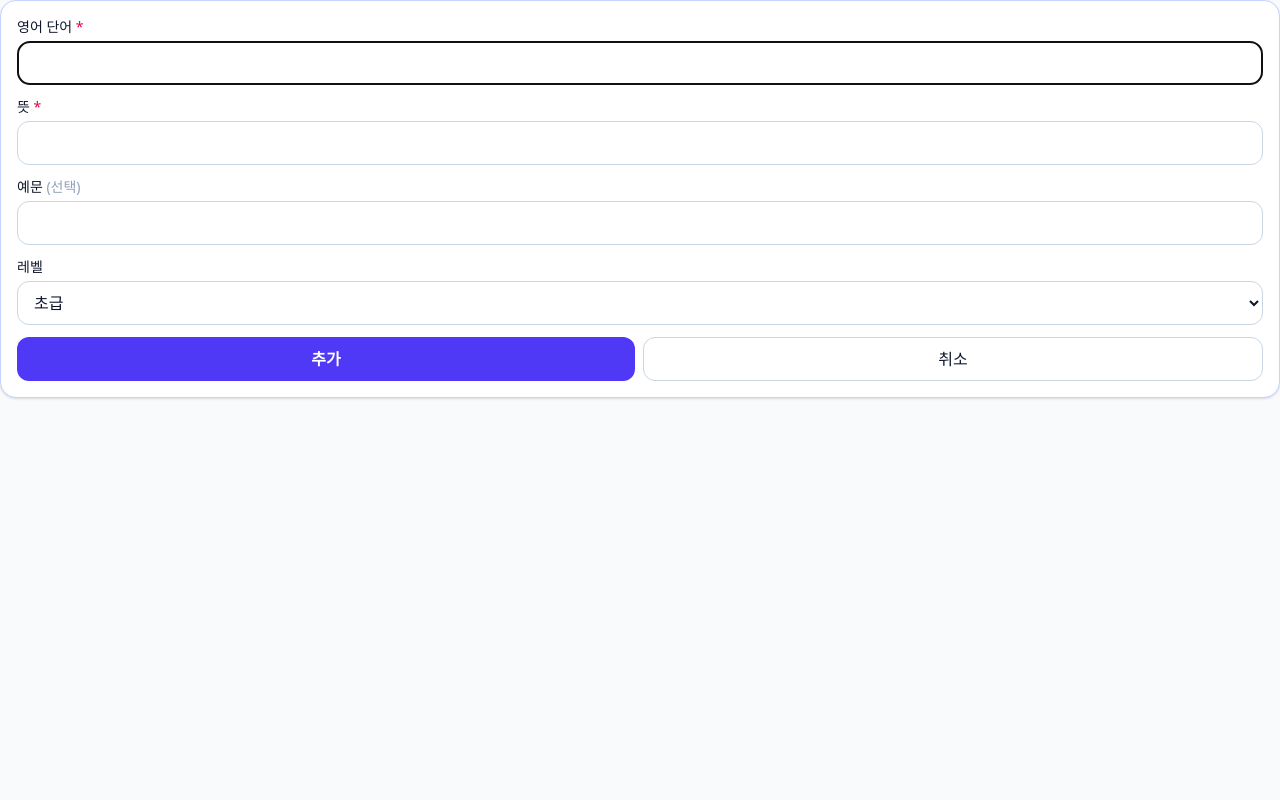
WordForm: 중복 경고 › 영어 단어를 고치면 경고가 사라진다
Type "borrow" into the field labelled "영어 단어 *".
click(640, 63); type("borrow")  # box [17,41,1263,85]
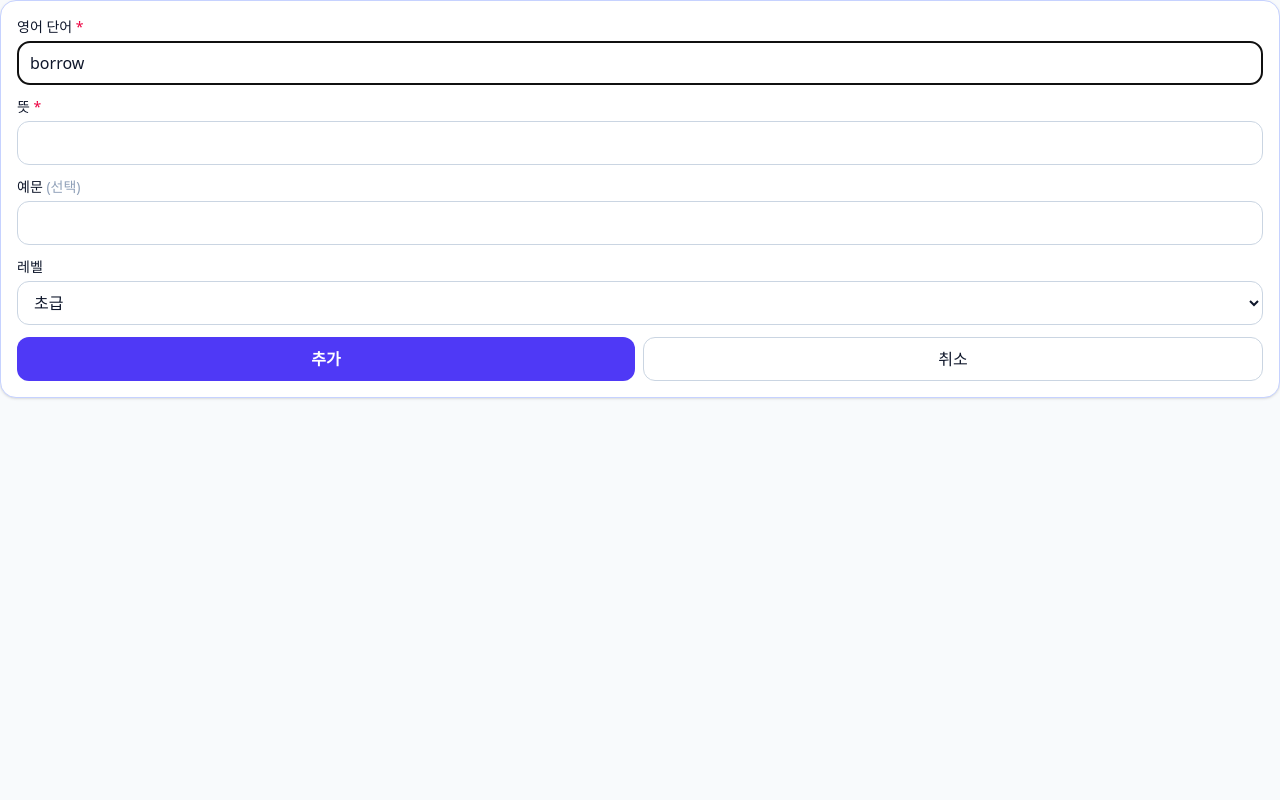
Type "빌리다" into the field labelled "뜻 *".
click(640, 143); type("빌리다")  # box [17,121,1263,165]
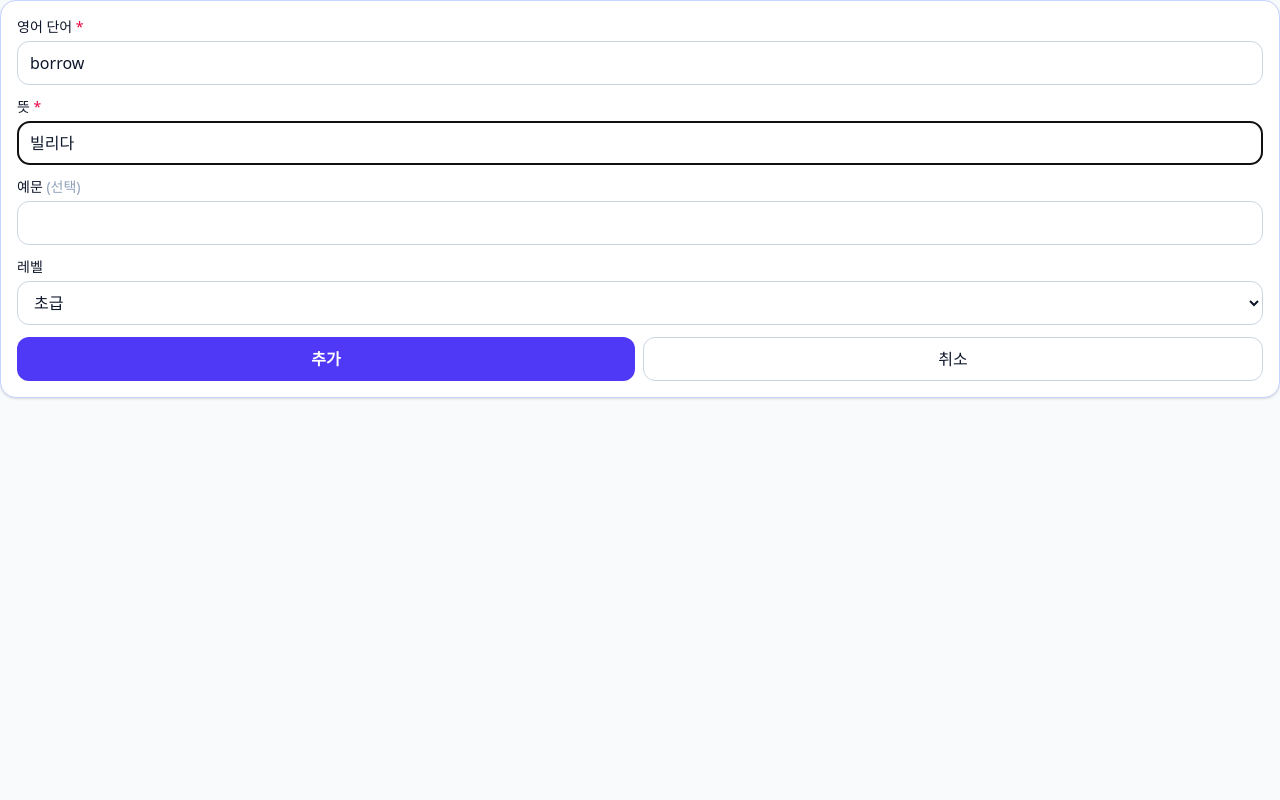
Click the button "추가".
click(326, 359)  # box [17,337,635,381]
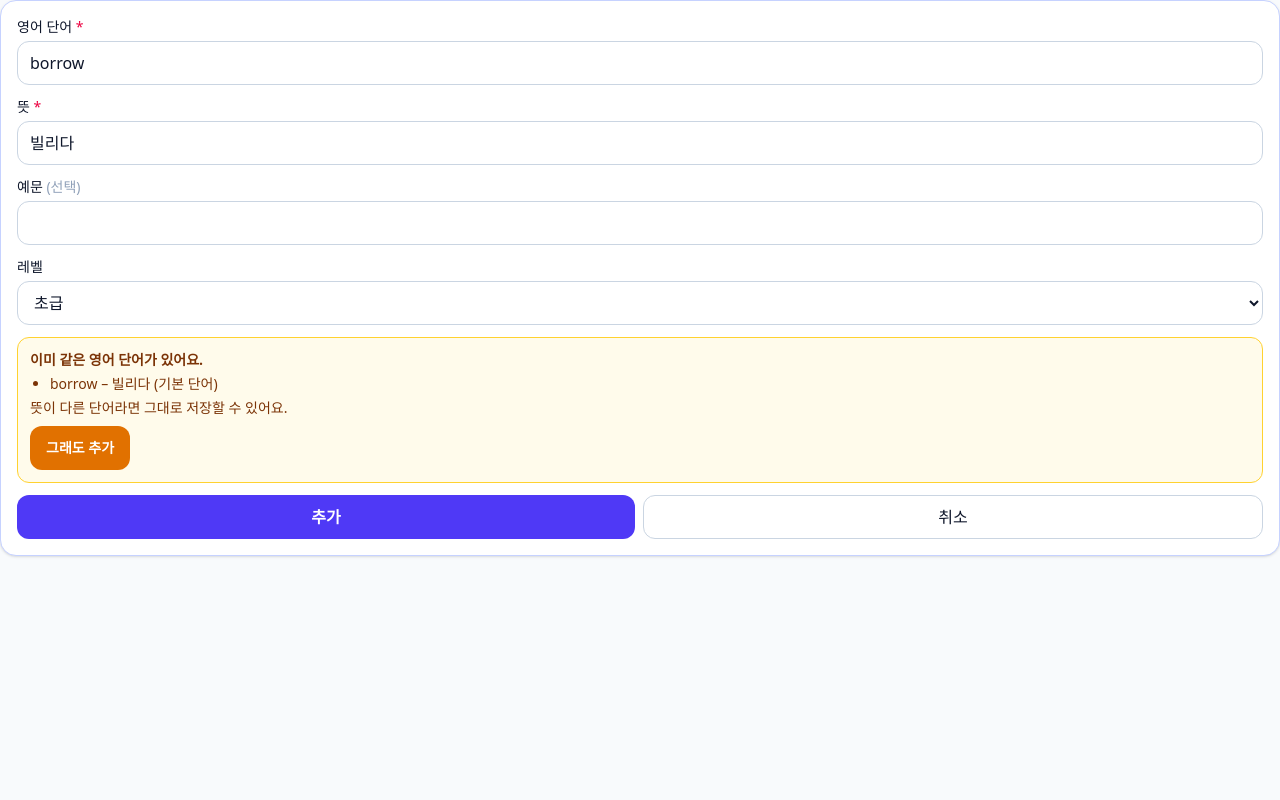
Result: the message "이미 같은 영어 단어가 있어요. borrow – 빌리다 (기본 단어) 뜻이 다른 단어라면 그대로 저장할 수 있어요. 그래도 추가" is shown at [17,337,1263,483]
Type "s" into the field labelled "영어 단어 *".
click(640, 63); type("s")  # box [17,41,1263,85]
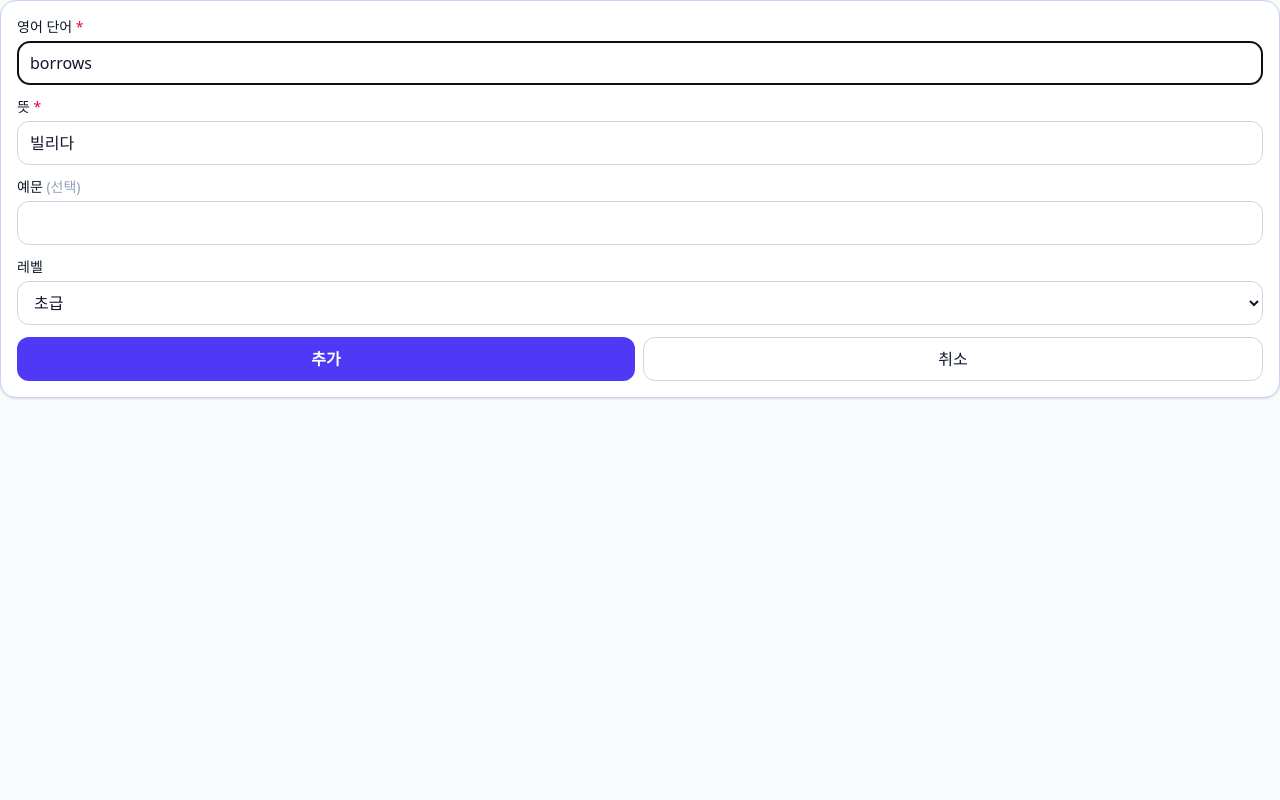
Result: the message "이미 같은 영어 단어가 있어요. borrow – 빌리다 (기본 단어) 뜻이 다른 단어라면 그대로 저장할 수 있어요. 그래도 추가" is gone
